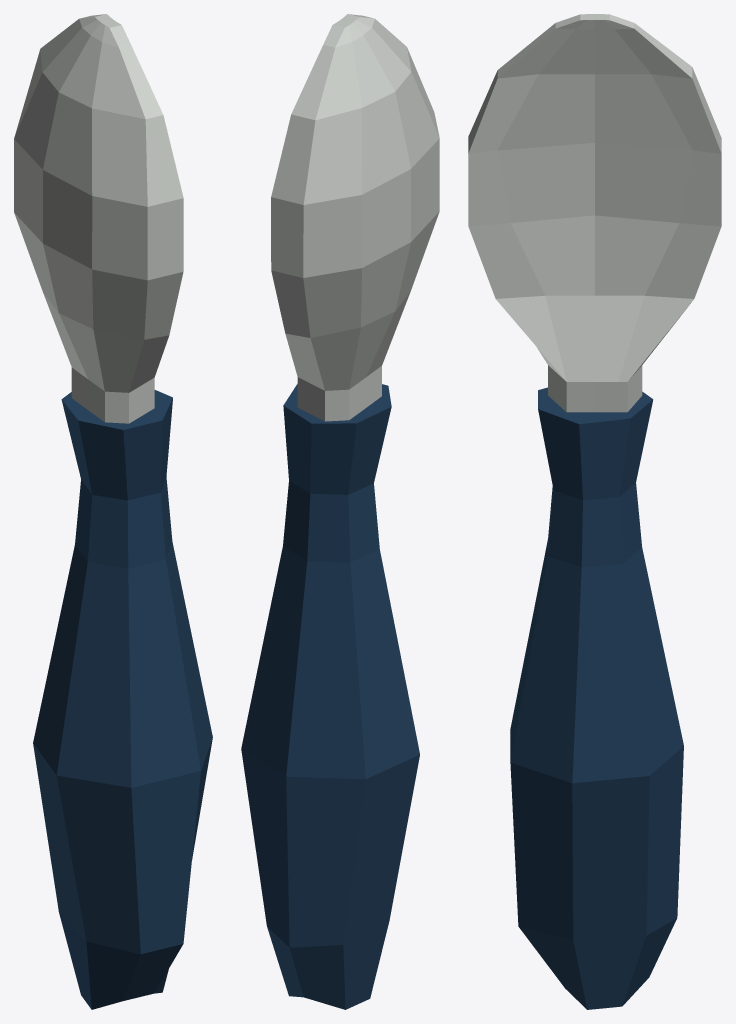
The model's file is spoon-navy.fbx.
3 views of the same model, side by side, from view 1: azimuth 30°, elevation 25°; view 2: azimuth 150°, elevation 25°; view 3: azimuth 270°, elevation 25° (orthographic).
Visible parts, largest first — view 1: spoon.005; view 2: spoon.005; view 3: spoon.005.
Part boxes in pixels (left/top/right/bottom): spoon.005: left=14, top=14, right=212, bottom=1009; spoon.005: left=241, top=14, right=439, bottom=1009; spoon.005: left=468, top=14, right=721, bottom=1009.
Size of the model in its own units: 144 by 850 by 202.
